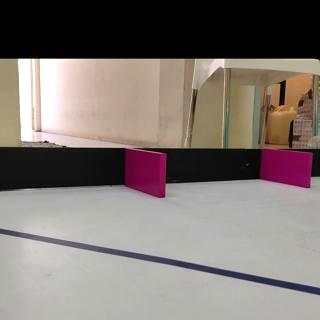xparking: (264, 152, 311, 186), (131, 154, 164, 194)
